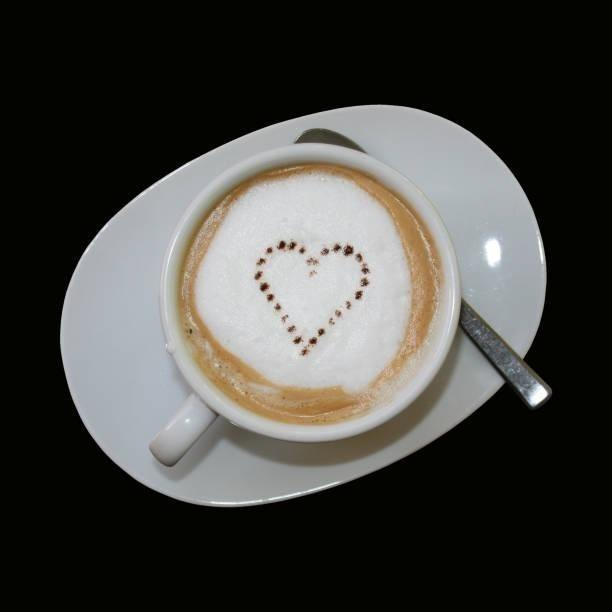cup-handle: (148, 140, 465, 473)
